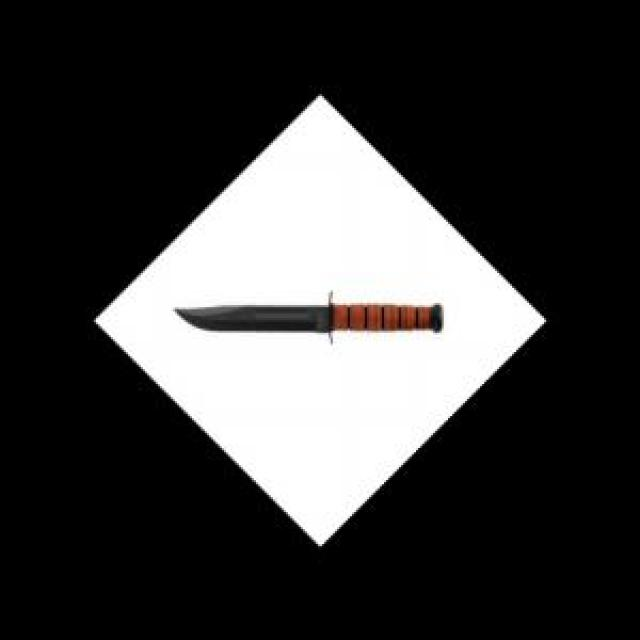knife: (170, 288, 458, 350)
